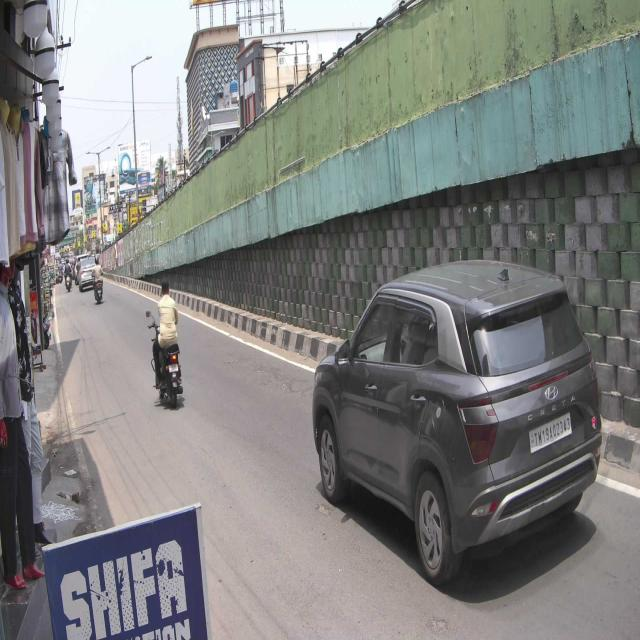single_rider: (147, 279, 185, 412)
